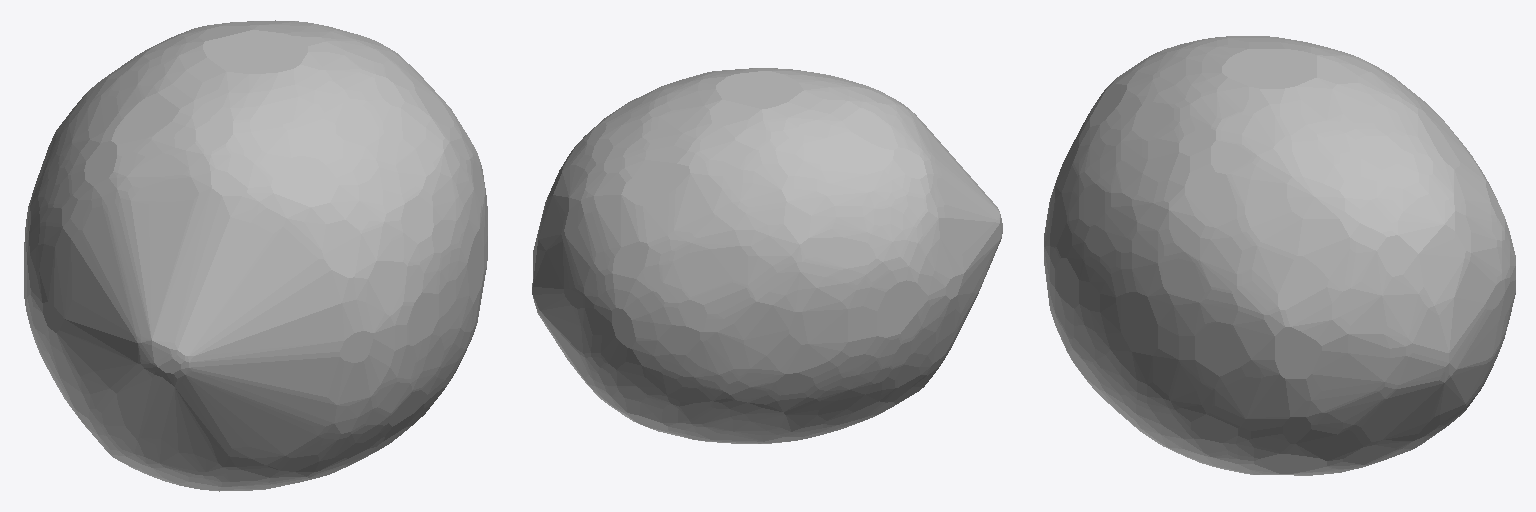
URDF robot description (root):
<robot name="root">
  <link name="link_coacd_convex_piece_0">
    <inertial>
      <origin xyz="0 0 0" rpy="0 0 0"/>
      <inertia ixx="4.19E-01" ixy="-4.40E-02" ixz="1.73E-03" iyy="4.33E-01" iyz="1.85E-04" izz="4.70E-01"/>
    </inertial>
    <visual>
      <origin xyz="0 0 0" rpy="0 0 0"/>
      <geometry>
        <mesh filename="coacd_convex_piece_0.obj" scale="1.0000E+00 1.0000E+00 1.0000E+00"/>
      </geometry>
      <material name="">
        <color rgba="7.50E-01 7.50E-01 7.50E-01 1"/>
      </material>
    </visual>
    <collision>
      <origin xyz="0 0 0" rpy="0 0 0"/>
      <geometry>
        <mesh filename="coacd_convex_piece_0.obj" scale="1.0000E+00 1.0000E+00 1.0000E+00"/>
      </geometry>
    </collision>
  </link>
</robot>

--- Render facts (derived) ---
3 views of the same robot in one strip: view 1: azimuth 30°, elevation 25°; view 2: azimuth 150°, elevation 25°; view 3: azimuth 270°, elevation 25° (orthographic).
Robot: root — 1 links, 0 joints (none); root link link_coacd_convex_piece_0; default pose: every joint at zero.
Links seen in each view (by area): view 1: link_coacd_convex_piece_0; view 2: link_coacd_convex_piece_0; view 3: link_coacd_convex_piece_0.
Boxes of the visible links, x1,y1,x2,y2 form: link_coacd_convex_piece_0: (24,20,487,491); link_coacd_convex_piece_0: (532,68,1002,443); link_coacd_convex_piece_0: (1044,36,1515,475).
Bounding box of the posed robot: 1.62 × 1.59 × 1.41 m (x, y, z).
1 mesh visuals loaded from 1 distinct referenced files (1 OBJ).